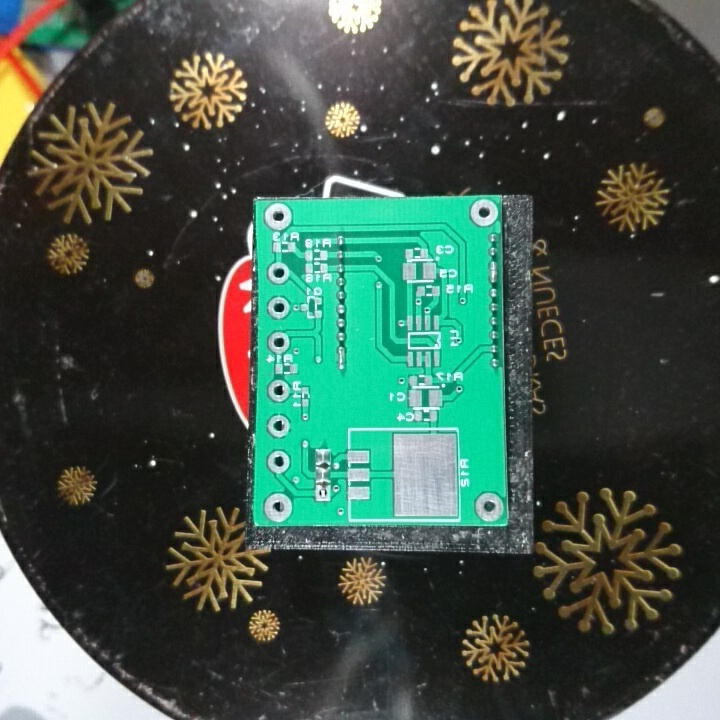F: (262, 490, 295, 523), (263, 200, 295, 232), (473, 491, 503, 523), (468, 198, 499, 228), (264, 412, 292, 442), (264, 447, 293, 475), (264, 294, 291, 324), (265, 260, 292, 288), (264, 377, 292, 404), (265, 330, 291, 356), (313, 483, 333, 505)
P: (485, 258, 502, 287), (334, 344, 350, 373)
